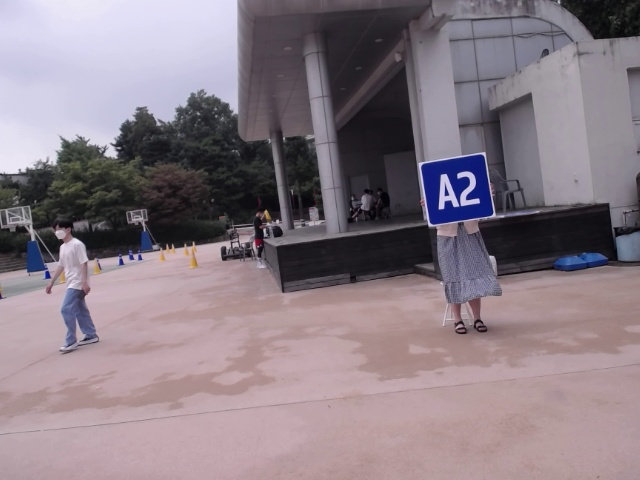delivery_a2: (419, 152, 495, 227)
